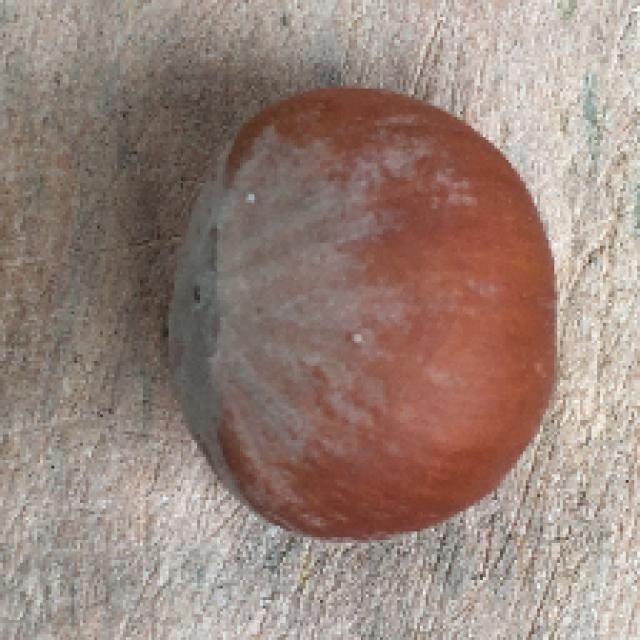qualityHazelnut: (143, 71, 568, 562)
